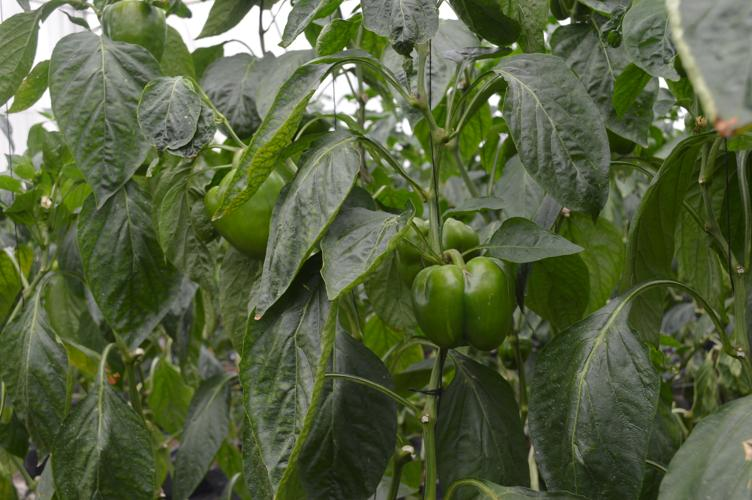BellPepper: (201, 144, 325, 278), (411, 255, 520, 366)
